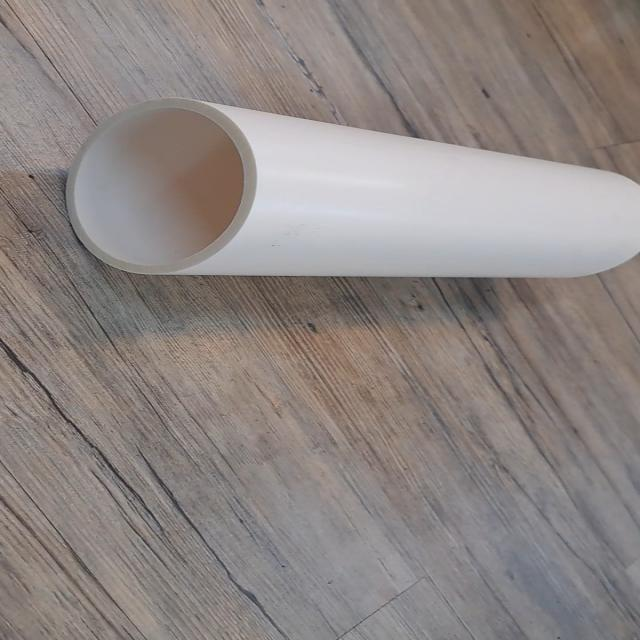CORAL: (54, 89, 640, 284)
